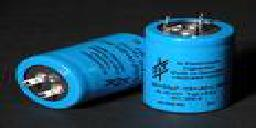Electrolytic-Capacitor: (2, 26, 140, 118), (140, 16, 236, 114)
